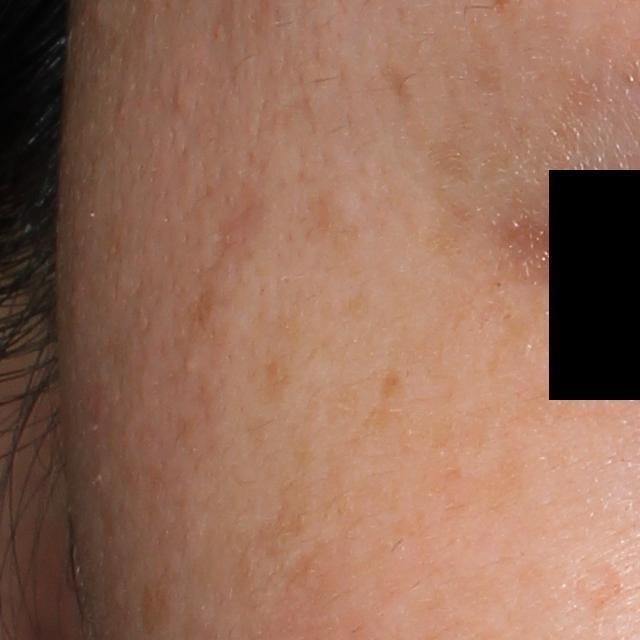atrophic_scar: (572, 561, 625, 616)
comedo: (181, 356, 196, 375)
melasma: (294, 194, 376, 321), (362, 376, 469, 456), (471, 291, 551, 386), (379, 357, 408, 405)
